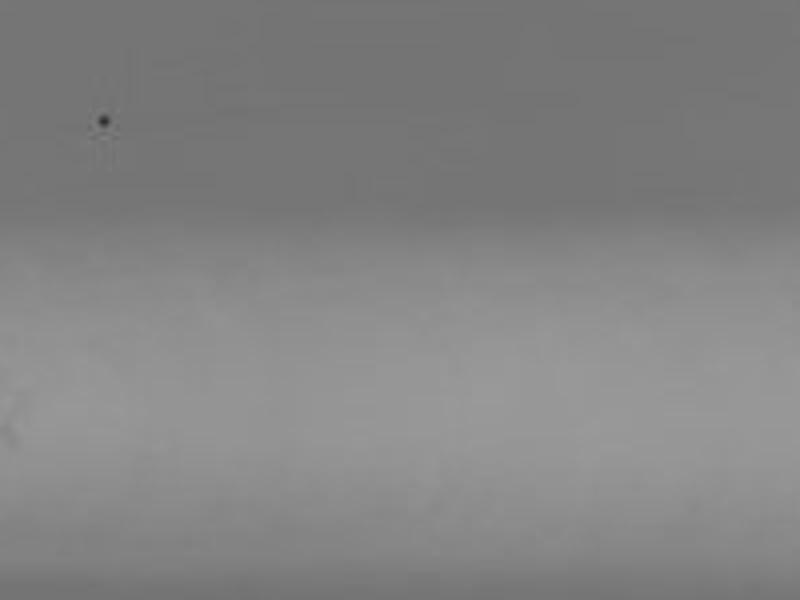defect: (91, 110, 119, 136)
